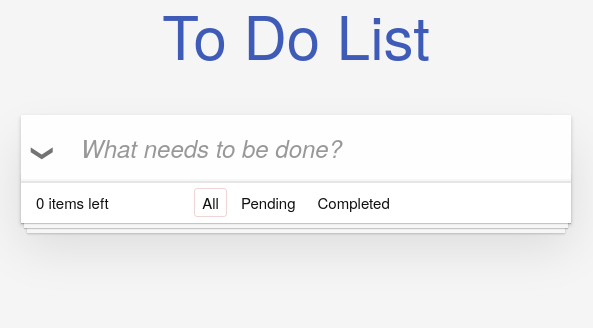
Add task › Enter the task and press Enter to add it to the list after which the input box is cleared
The width and height of the screenshot is (593, 328).
In the field with test id "new-todo": {"x": 296, "y": 148} [21,115,571,181], type "Hello World"
Then press Enter
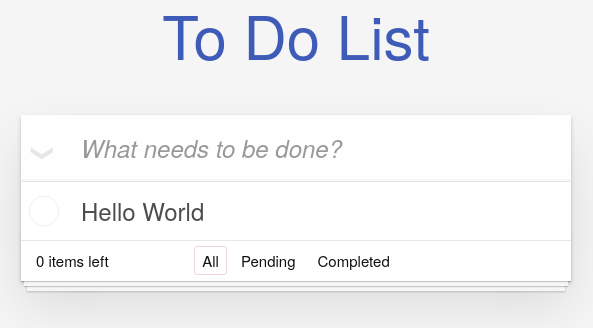
Check: the text "Hello World" is shown, box [21,182,571,240]
